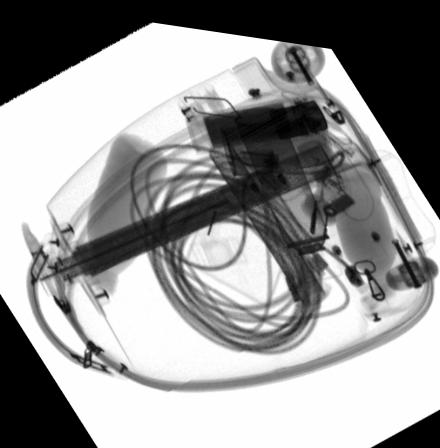Lighter: (269, 89, 328, 131)
Powerbank: (184, 84, 327, 147)
Sprayer: (232, 101, 342, 274)
